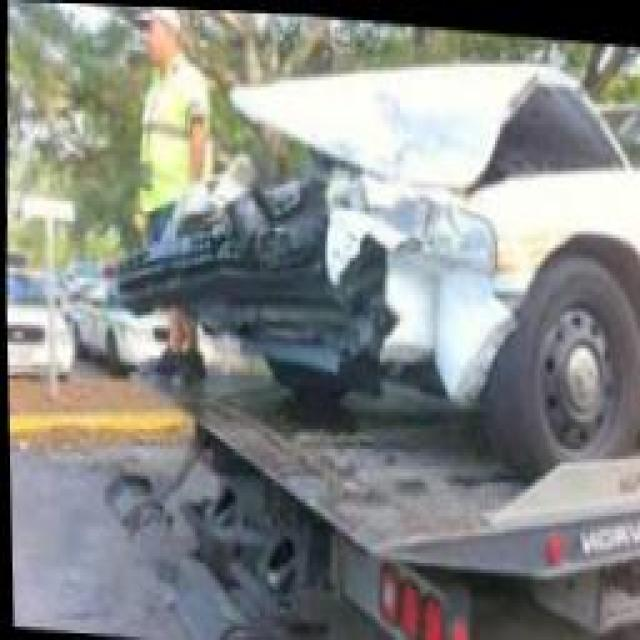Bonnet: (236, 57, 630, 184)
Bumper: (107, 238, 505, 395)
